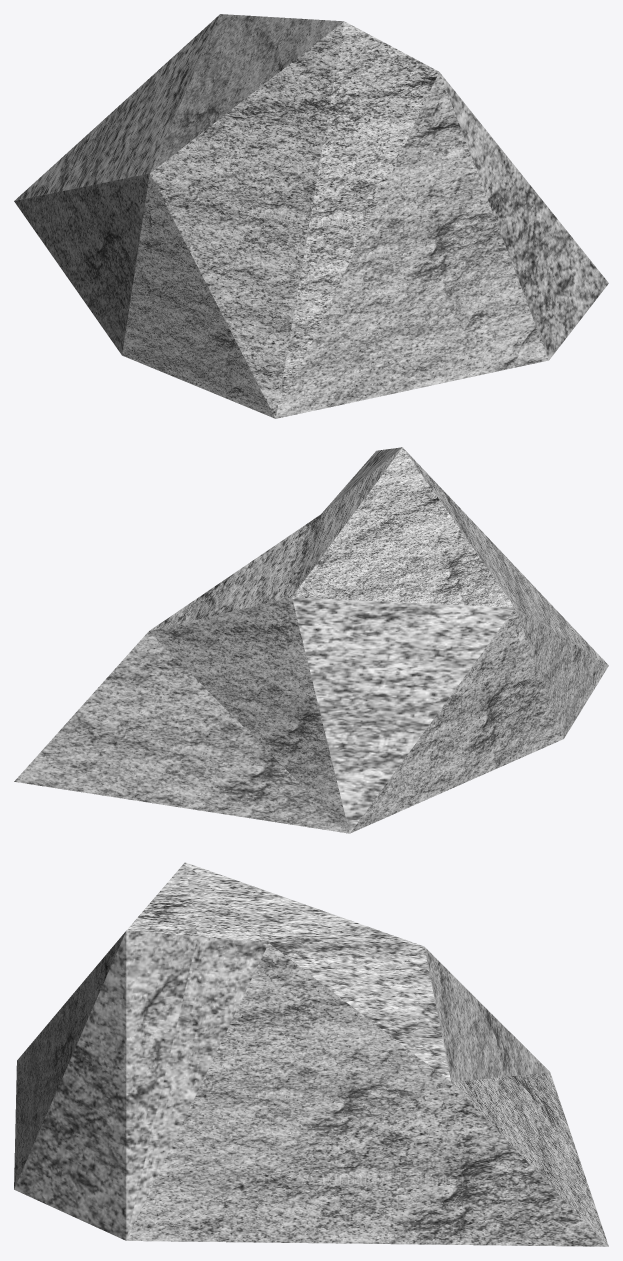
The model's file is rock7.fbx.
3 renders of one model, top to bottom at view 1: azimuth 30°, elevation 25°; view 2: azimuth 150°, elevation 25°; view 3: azimuth 270°, elevation 25°, orthographic. The views are drawn at different scales.
Visible parts, largest first — view 1: GeoSphere005; view 2: GeoSphere005; view 3: GeoSphere005.
Boxes of the visible parts, x1,y1,x2,y2 form: GeoSphere005: [14, 14, 608, 418]; GeoSphere005: [14, 447, 608, 833]; GeoSphere005: [14, 862, 608, 1246].
Bounding box in the file's own units: 89.51 × 56.66 × 110.
1 material, 1 textured.
